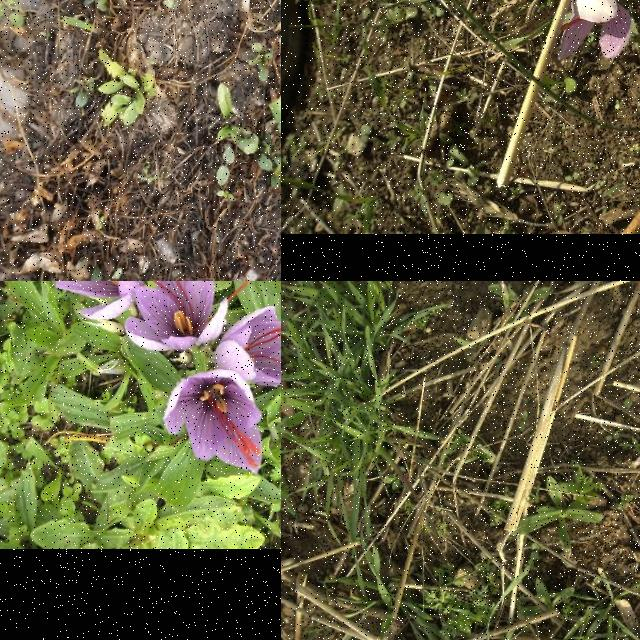flower: (162, 370, 264, 474), (125, 281, 255, 352), (213, 306, 281, 388), (556, 0, 640, 61), (35, 281, 147, 321)
